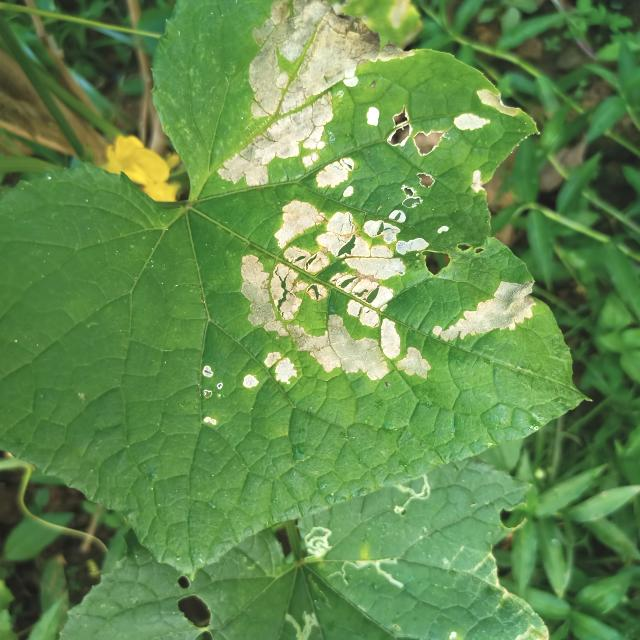disease_cucumber: (213, 0, 528, 197), (238, 196, 536, 394), (192, 356, 229, 429)
